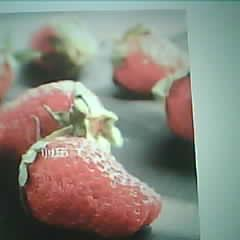straw-ripe: (21, 138, 161, 235)
